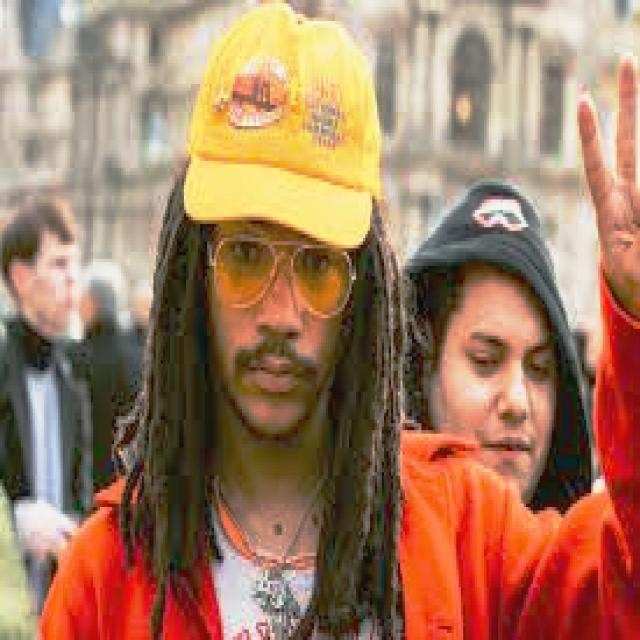TOPI: (393, 174, 591, 468), (179, 0, 384, 248)
